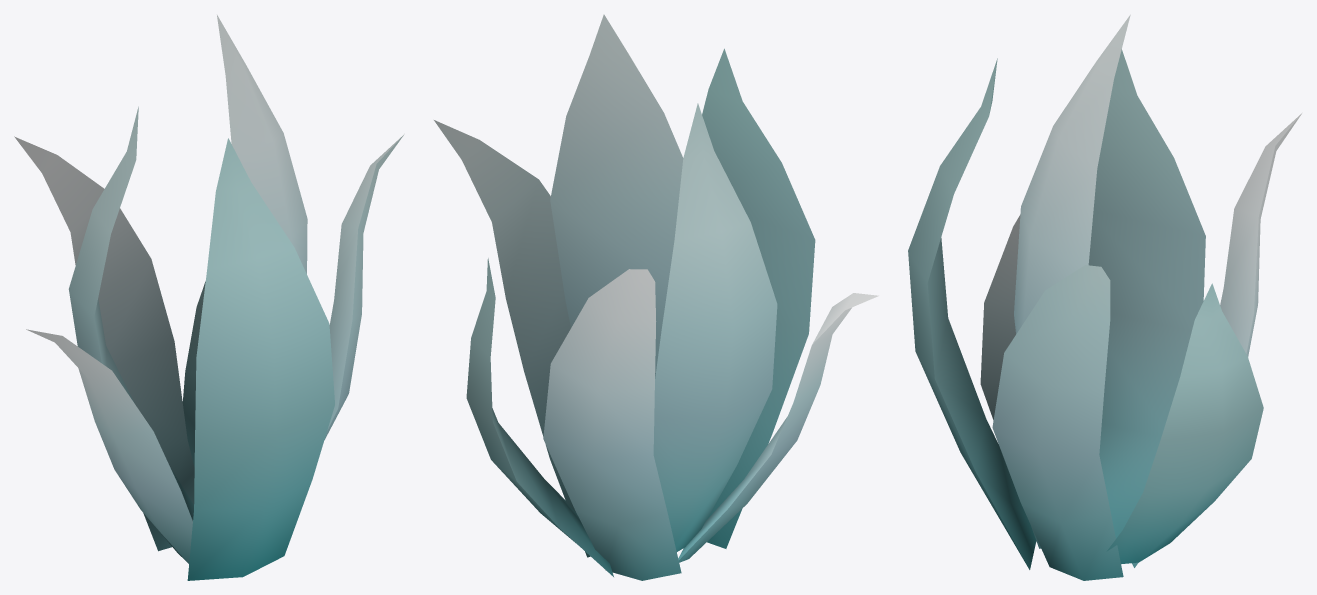
Rendered from prop-laughter_weed_01.glb.
3 views of the same model, side by side, from view 1: azimuth 30°, elevation 25°; view 2: azimuth 150°, elevation 25°; view 3: azimuth 270°, elevation 25° (orthographic). The views are drawn at different scales.
Parts seen in each view (by area): view 1: prop-laughter_weed_01; view 2: prop-laughter_weed_01; view 3: prop-laughter_weed_01.
Part boxes in pixels (<box>): prop-laughter_weed_01: <box>14,15,404,580</box>; prop-laughter_weed_01: <box>434,14,878,580</box>; prop-laughter_weed_01: <box>908,14,1301,580</box>.
Bounding box in the file's own units: 2.56 × 3.21 × 2.06.
